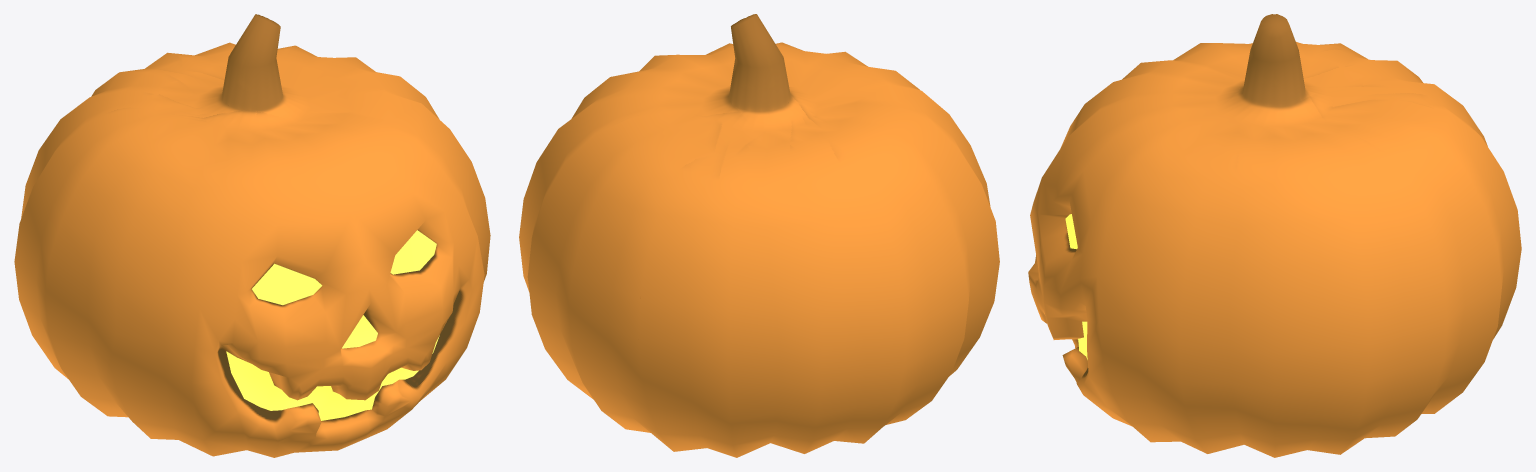
File: lp_carved_pumpkin.glb
The picture shows the model from 3 angles, left to right: view 1: azimuth 30°, elevation 25°; view 2: azimuth 150°, elevation 25°; view 3: azimuth 270°, elevation 25°; orthographic projection. The views are drawn at different scales.
Visible parts, largest first — view 1: Object_2, Object_3; view 2: Object_2; view 3: Object_2, Object_3.
Part boxes in pixels (x1,y1,x2,y2): Object_2: [14, 14, 490, 457]; Object_3: [226, 230, 439, 420]; Object_2: [519, 14, 999, 457]; Object_2: [1028, 14, 1521, 457]; Object_3: [1065, 214, 1087, 359].
Size of the model in its own units: 11.49 by 10.03 by 11.5.
Materials: 2 (1 with a texture image).
